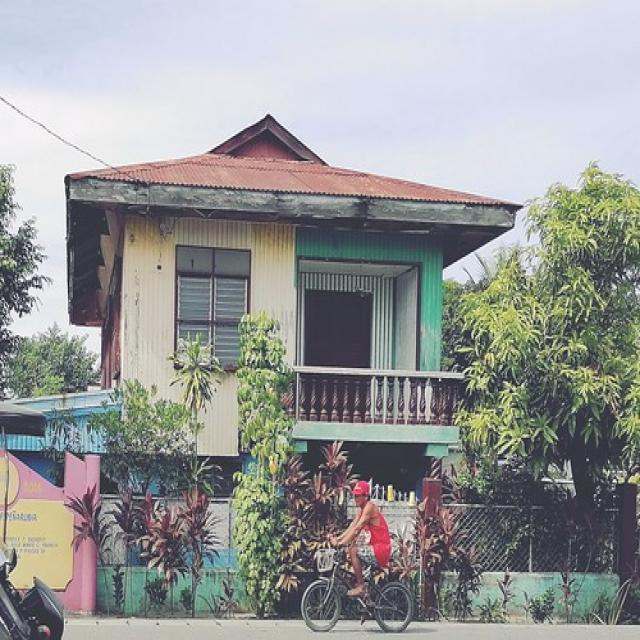Normal_building: (60, 114, 519, 614)
